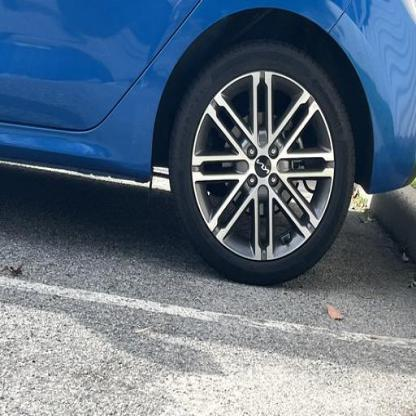Tire: (169, 47, 357, 287)
